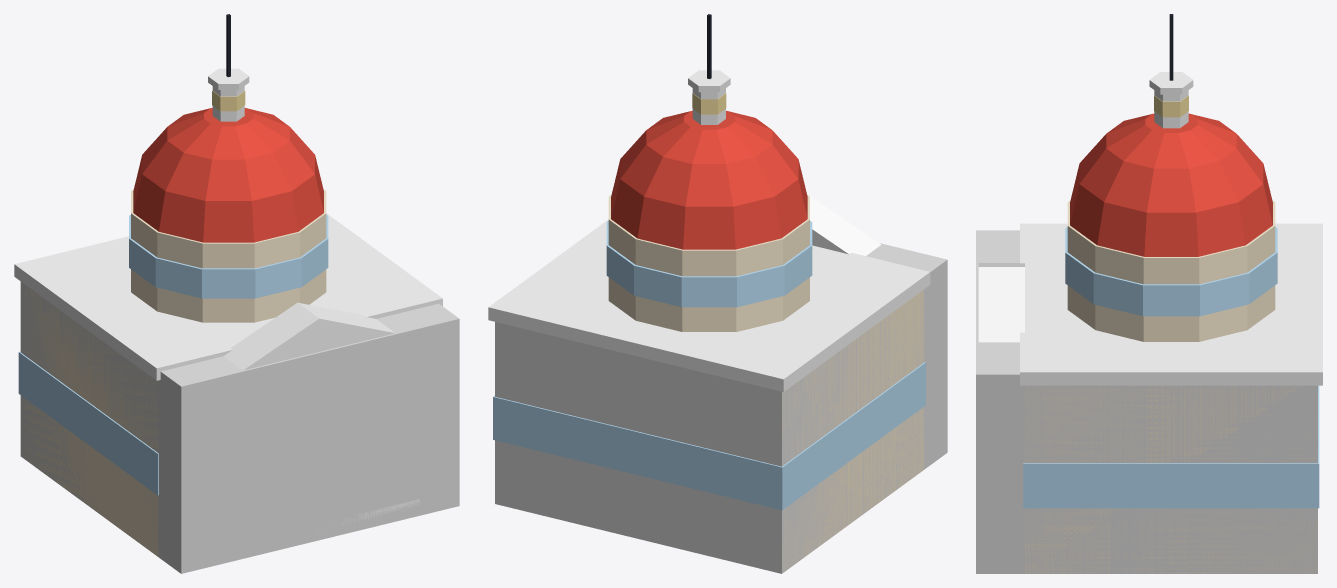
The model's file is skyline-dome.glb.
3 renders of one model, left to right at view 1: azimuth 30°, elevation 25°; view 2: azimuth 150°, elevation 25°; view 3: azimuth 270°, elevation 25°, orthographic. The views are drawn at different scales.
Parts seen in each view (by area): view 1: skyline-dome, COL_body; view 2: skyline-dome, COL_body; view 3: skyline-dome, COL_body.
Boxes of the visible parts, bbox=[...] form: skyline-dome: bbox=[14, 14, 442, 556]; COL_body: bbox=[20, 281, 459, 573]; skyline-dome: bbox=[488, 14, 930, 572]; COL_body: bbox=[495, 243, 947, 573]; skyline-dome: bbox=[978, 14, 1322, 573]; COL_body: bbox=[976, 230, 1317, 573].
Bounding box in the file's own units: 14.4 × 22 × 14.2.
